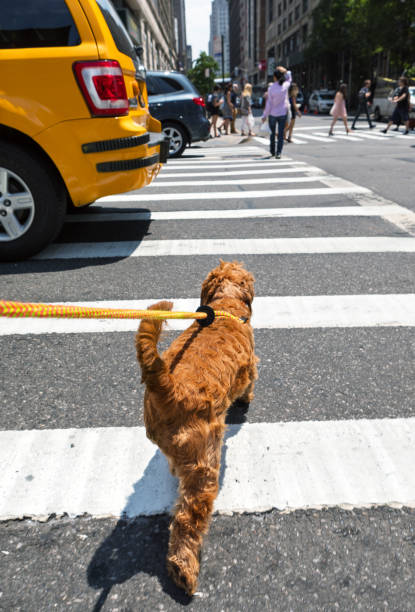kopek: (117, 257, 299, 609)
yaya: (253, 65, 307, 150)
